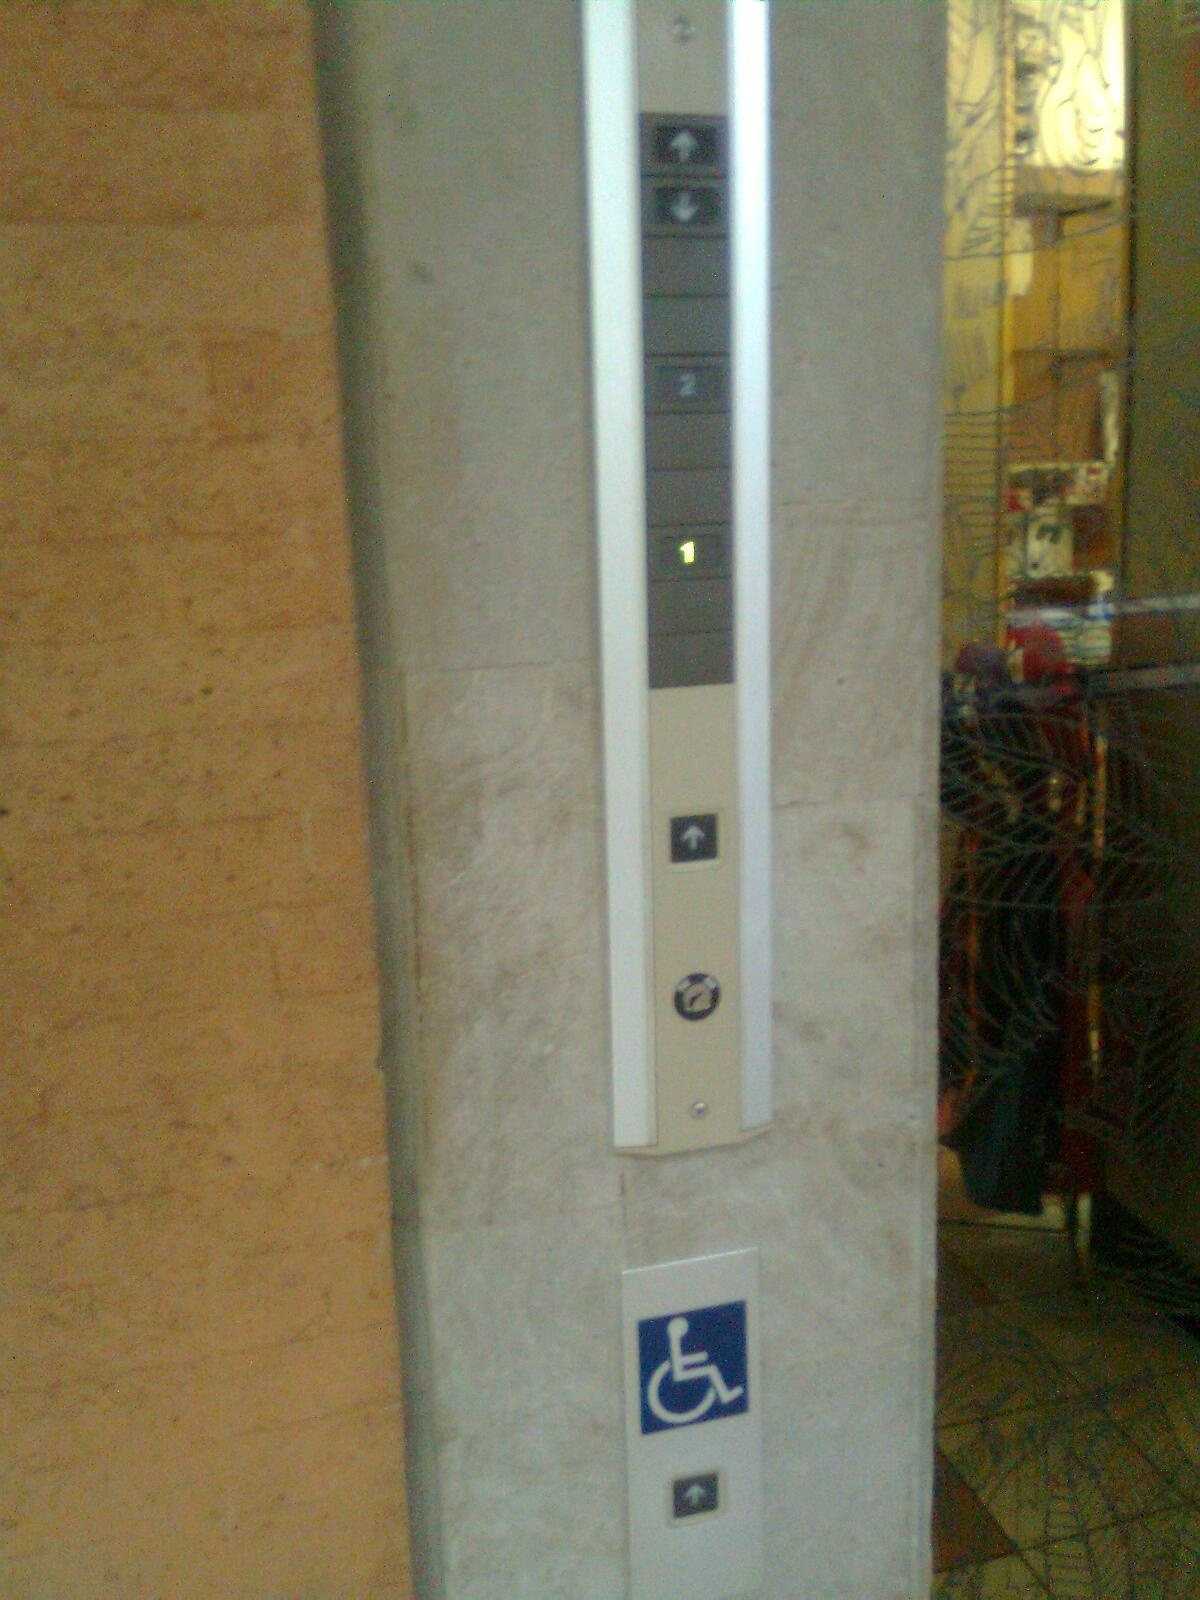1: (654, 530, 727, 576)
2: (649, 362, 729, 404)
CH: (637, 1296, 753, 1437)
down: (649, 181, 724, 227)
keyhole: (674, 973, 721, 1026)
up: (666, 1468, 727, 1529), (650, 121, 724, 166), (667, 811, 721, 866)
